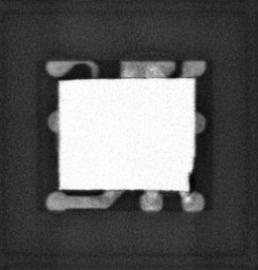DIE_BROKEN: (187, 155, 198, 193)
